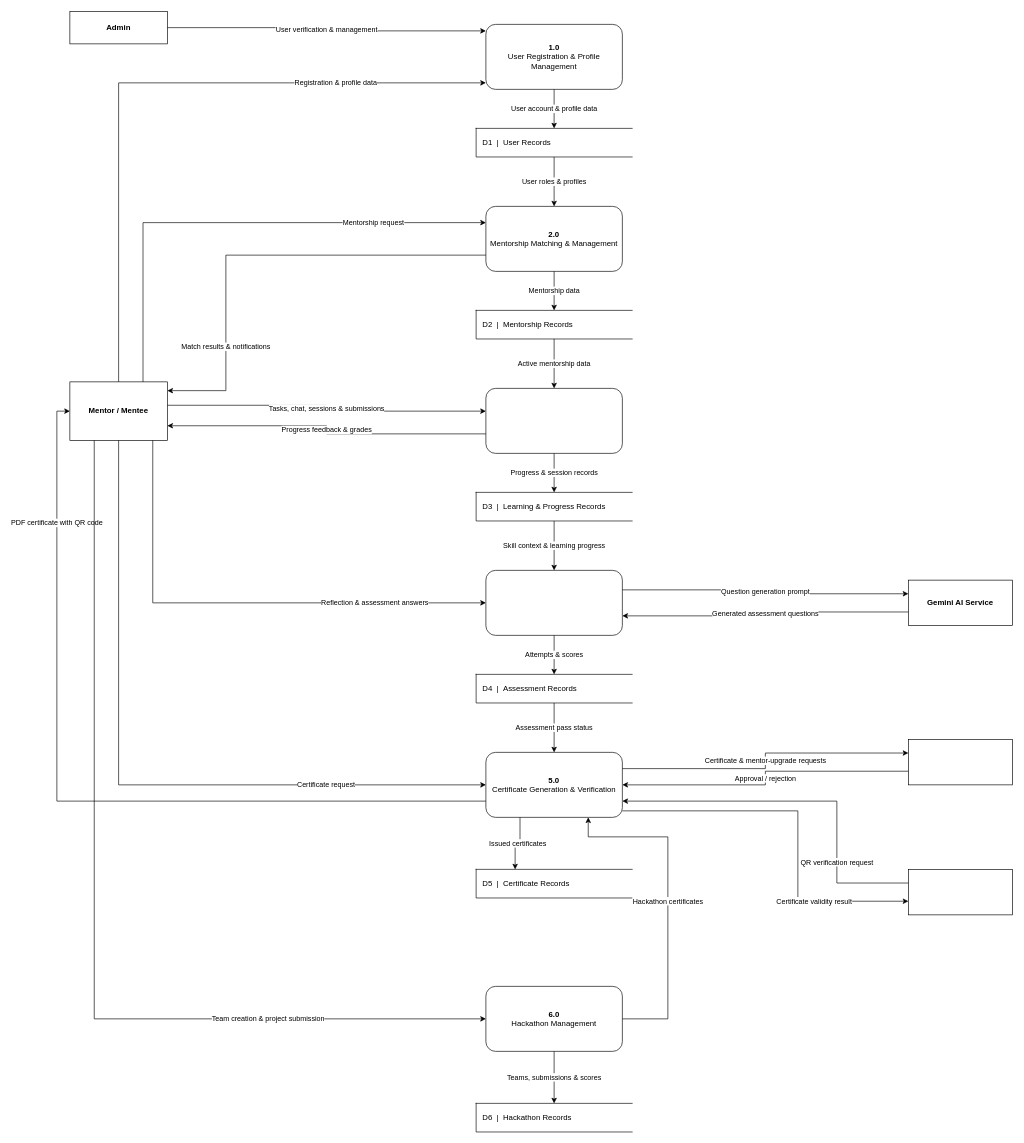
This 1024x1143 diagram has some shape labels left out. The shapes that lost their labels are listed below. From the top down, each one's box as (x1, y1, x2, y2) in pixels, then its label:
(485, 388, 622, 453): 3.0 Collaborative Learning (paths, chat, sessions)
(485, 570, 622, 635): 4.0 AI Assessment & Evaluation
(908, 739, 1012, 785): Verifier
(908, 869, 1012, 915): Employer / External Verifier
